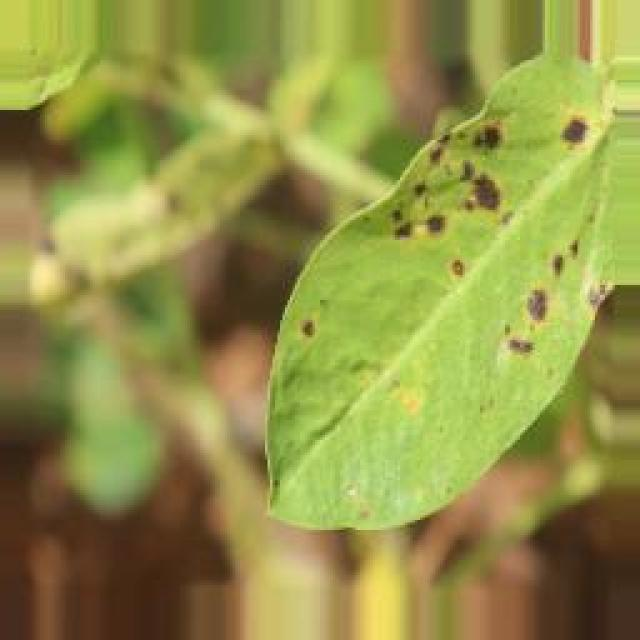Yellowish: (282, 105, 612, 421)
